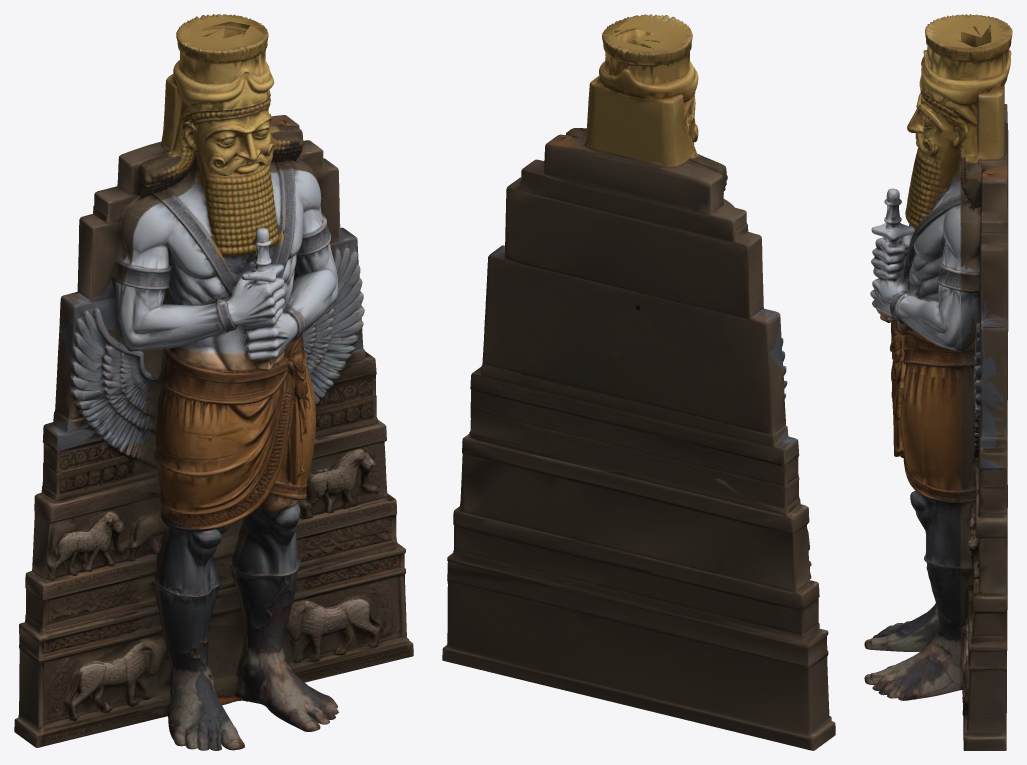
File: statue_v11o_lod.glb
3 renders of one model, left to right at view 1: azimuth 30°, elevation 25°; view 2: azimuth 150°, elevation 25°; view 3: azimuth 270°, elevation 25°, orthographic. The views are drawn at different scales.
Parts seen in each view (by area): view 1: backer_stone, chest_silver, belly_bronze, head_gold, legs_iron, feet_clay; view 2: backer_stone, head_gold; view 3: backer_stone, head_gold, chest_silver, belly_bronze, feet_clay, legs_iron.
Part boxes in pixels (x1,y1,x2,y2): backer_stone: (14,115,413,747); chest_silver: (120,168,337,359); belly_bronze: (155,322,315,529); head_gold: (161,14,289,261); legs_iron: (158,500,300,663); feet_clay: (167,640,338,750); backer_stone: (442,128,835,750); head_gold: (585,14,699,165); backer_stone: (960,104,1008,750); head_gold: (905,14,1012,233); chest_silver: (870,176,960,351); belly_bronze: (876,309,960,500); feet_clay: (864,603,960,700); legs_iron: (910,490,960,633).
Bounding box in the file's own units: 0.5902 × 1 × 0.2117.
1 material, 1 textured.
